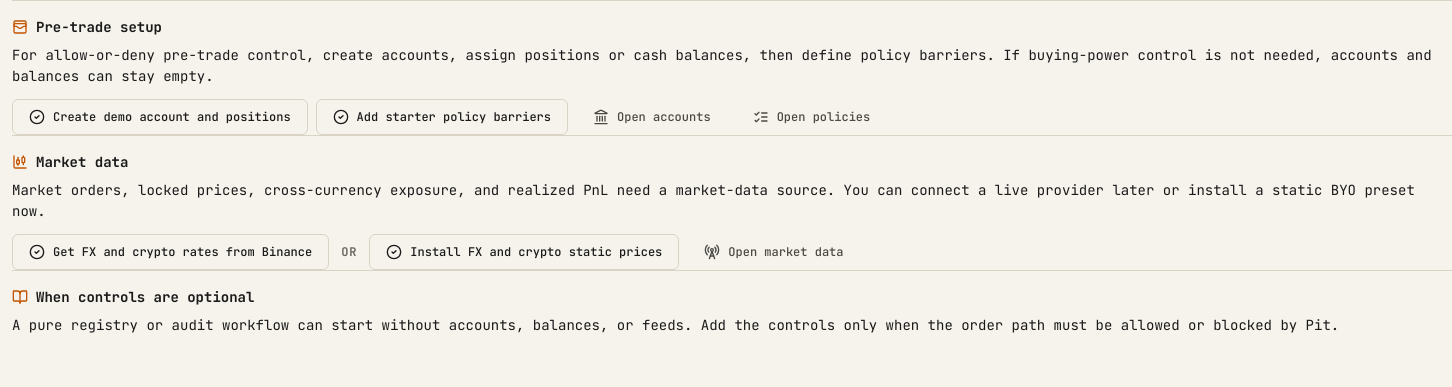
Scenario: WelcomeQuickStart › reports how far a preset got before a partial failure
This screenshot has width=1452, height=387.
What coordinates should you click on to do the following:
click the button "Install FX and crypto static prices"
I would click on:
 (524, 252)
Its box is top-left (369, 234), bottom-right (679, 270).
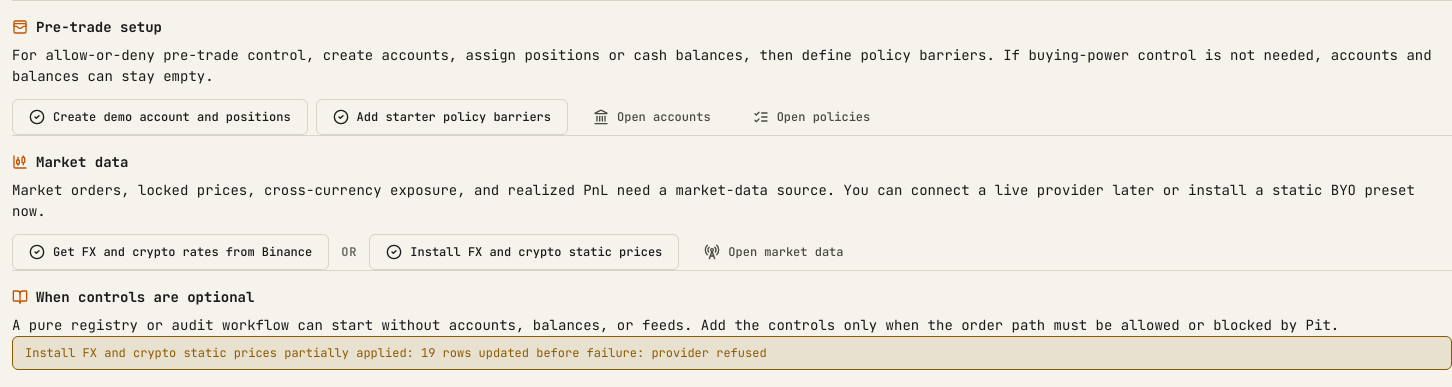
expect the text "Install FX and crypto static prices partially applied: 19 rows updated before failure: provider refused" is shown: met, box top-left (25, 345), bottom-right (767, 361)
